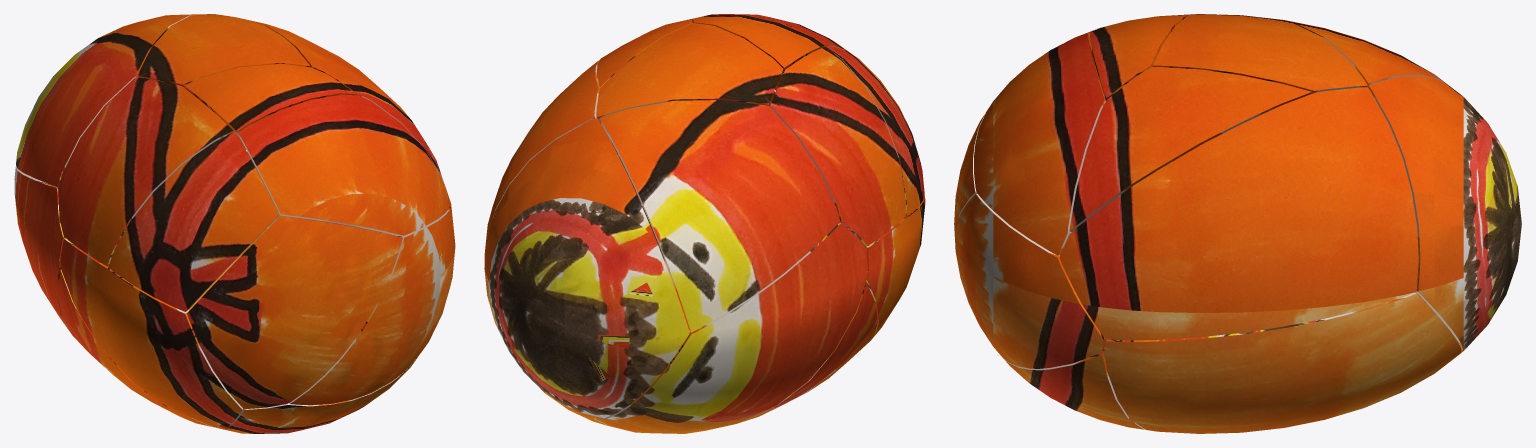
File: egg_cracked.FBX
3 renders of one model, left to right at view 1: azimuth 30°, elevation 25°; view 2: azimuth 150°, elevation 25°; view 3: azimuth 270°, elevation 25°, orthographic. The views are drawn at different scales.
Visible parts, largest first — view 1: eggy; view 2: eggy; view 3: eggy.
Part boxes in pixels (x1,y1,x2,y2): eggy: [14, 14, 455, 433]; eggy: [484, 14, 925, 433]; eggy: [954, 14, 1521, 433].
Bounding box in the file's own units: 2.07 × 2.78 × 2.06.
1 material, 1 textured.
